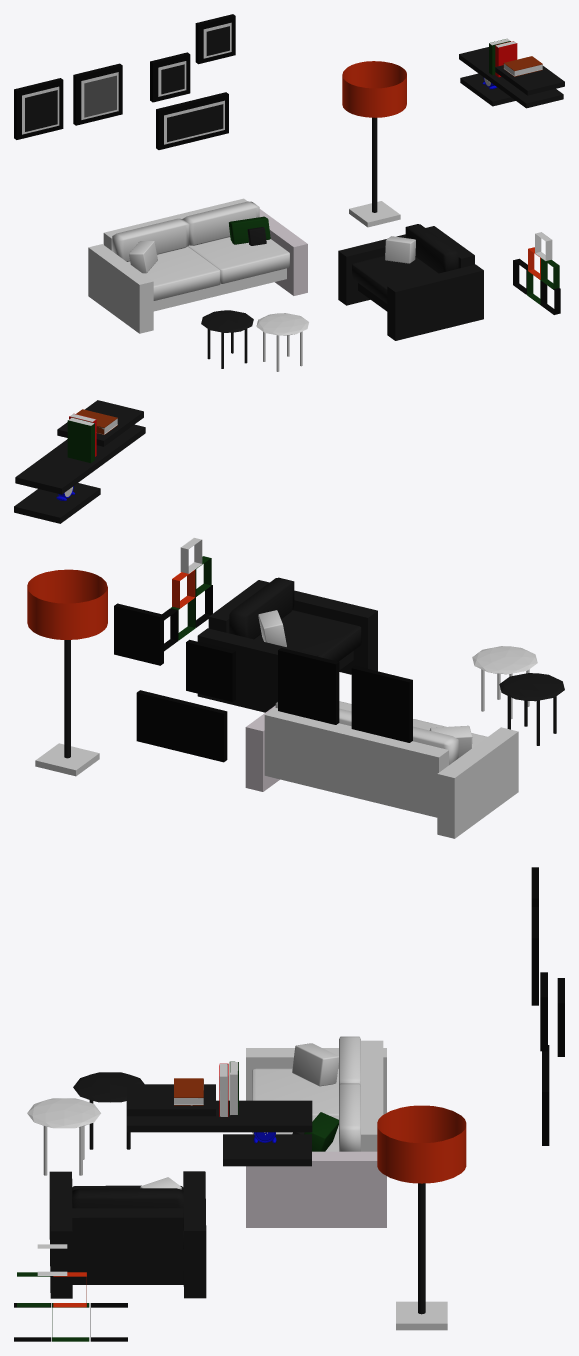
The model's file is quarto.obj.
The picture shows the model from 3 angles, top to bottom: view 1: azimuth 30°, elevation 25°; view 2: azimuth 150°, elevation 25°; view 3: azimuth 270°, elevation 25°; orthographic projection. The views are drawn at different scales.
Parts seen in each view (by area): view 1: Cube.014_Cube.044, Cube.026_Cube.065, Surface_Surface.003, Cube.015_Cube.071, Cube.030_Cube.069, Cube.031_Cube.073, Cube.029_Cube.068, Cube.018_Cube.060, Cube.024_Cube.063, Cube.020_Cube.072, Cube.033_Cube.078, Cube.007_Cube.049 (+24 smaller); view 2: Cube.025_Cube.064, Cube.026_Cube.065, Surface_Surface.003, Cube.049_Cube.111, Cube.016_Cube.107, Cube.046_Cube.108, Cube.020_Cube.072, Cube.033_Cube.078, Cube.031_Cube.073, Cube.014_Cube.044, Cube.048_Cube.110, Cube.047_Cube.109 (+15 smaller); view 3: Cube.024_Cube.063, Cube.010_Cube.047, Surface_Surface.003, Cube.033_Cube.078, Cube.020_Cube.072, Cube.014_Cube.044, Cube.009_Cube.075, Cube.030_Cube.069, Cube.025_Cube.064, Cube.007_Cube.049, Cube.017_Cube.092, Icosphere_Icosphere.003 (+13 smaller).
Part boxes in pixels (x1=…): Cube.014_Cube.044: x1=387, y1=264, x2=483, y2=340; Cube.026_Cube.065: x1=88, y1=244, x2=153, y2=333; Surface_Surface.003: x1=342, y1=61, x2=406, y2=117; Cube.015_Cube.071: x1=188, y1=237, x2=289, y2=283; Cube.030_Cube.069: x1=127, y1=246, x2=220, y2=300; Cube.031_Cube.073: x1=352, y1=255, x2=437, y2=303; Cube.029_Cube.068: x1=112, y1=218, x2=189, y2=261; Cube.018_Cube.060: x1=183, y1=201, x2=259, y2=245; Cube.024_Cube.063: x1=259, y1=209, x2=307, y2=295; Cube.020_Cube.072: x1=338, y1=234, x2=405, y2=305; Cube.033_Cube.078: x1=459, y1=47, x2=563, y2=108; Cube.007_Cube.049: x1=405, y1=224, x2=458, y2=273; Cube.025_Cube.064: x1=264, y1=707, x2=448, y2=817; Cube.026_Cube.065: x1=437, y1=727, x2=518, y2=838; Surface_Surface.003: x1=27, y1=569, x2=107, y2=639; Cube.049_Cube.111: x1=136, y1=690, x2=227, y2=762; Cube.016_Cube.107: x1=351, y1=666, x2=412, y2=742; Cube.046_Cube.108: x1=278, y1=648, x2=339, y2=724; Cube.020_Cube.072: x1=197, y1=628, x2=318, y2=712; Cube.033_Cube.078: x1=15, y1=424, x2=145, y2=494; Cube.031_Cube.073: x1=254, y1=610, x2=361, y2=661; Cube.014_Cube.044: x1=293, y1=590, x2=377, y2=674; Cube.048_Cube.110: x1=114, y1=603, x2=163, y2=665; Cube.047_Cube.109: x1=186, y1=639, x2=235, y2=701; Cube.024_Cube.063: x1=246, y1=1151, x2=386, y2=1227; Cube.010_Cube.047: x1=72, y1=1208, x2=183, y2=1284; Surface_Surface.003: x1=377, y1=1105, x2=466, y2=1183; Cube.033_Cube.078: x1=127, y1=1100, x2=312, y2=1132; Cube.020_Cube.072: x1=183, y1=1171, x2=206, y2=1298; Cube.014_Cube.044: x1=49, y1=1171, x2=72, y2=1298; Cube.009_Cube.075: x1=223, y1=1134, x2=311, y2=1166; Cube.030_Cube.069: x1=252, y1=1068, x2=338, y2=1133; Cube.025_Cube.064: x1=361, y1=1040, x2=383, y2=1151; Cube.007_Cube.049: x1=72, y1=1188, x2=183, y2=1227; Cube.017_Cube.092: x1=127, y1=1084, x2=215, y2=1116; Icosphere_Icosphere.003: x1=27, y1=1098, x2=100, y2=1128.
Bounding box in the file's own units: 17.16 × 8.61 × 14.85.
